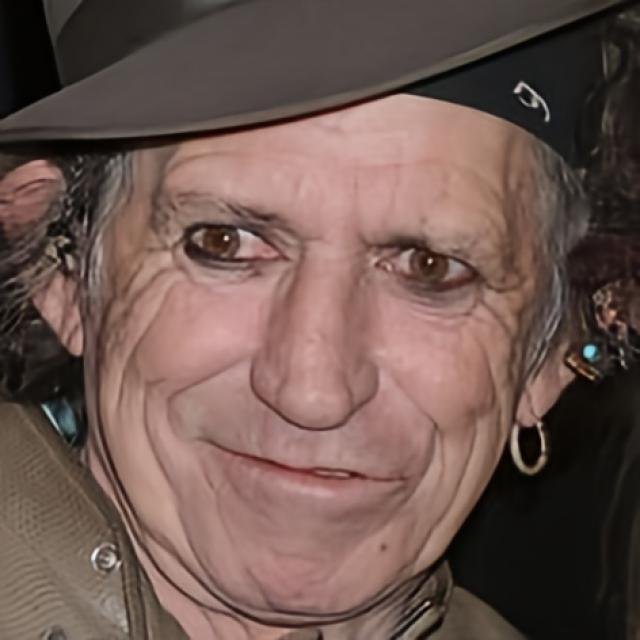content: (84, 91, 558, 620)
